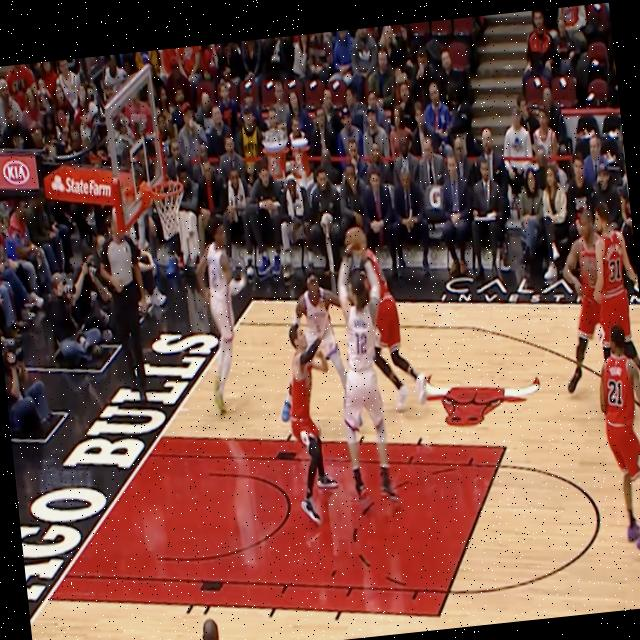no foul: (268, 233, 416, 520), (562, 210, 640, 429)
